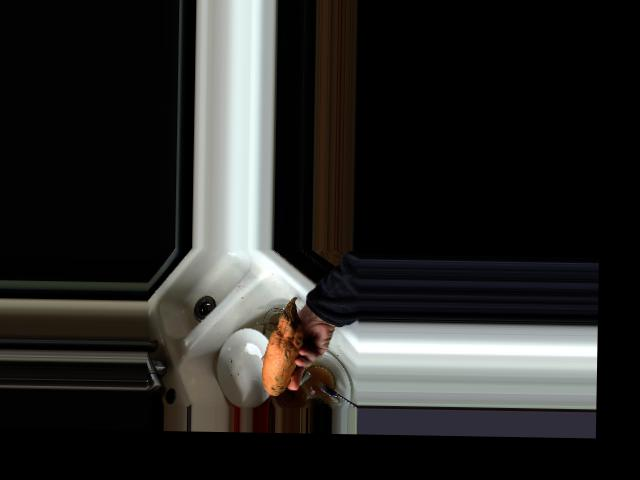sweet_potato: (259, 295, 304, 395)
